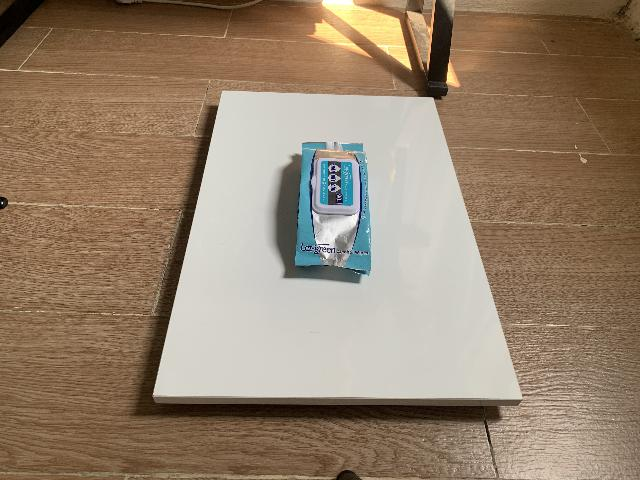Let-green_alcohol_wipes: (294, 142, 371, 275)
